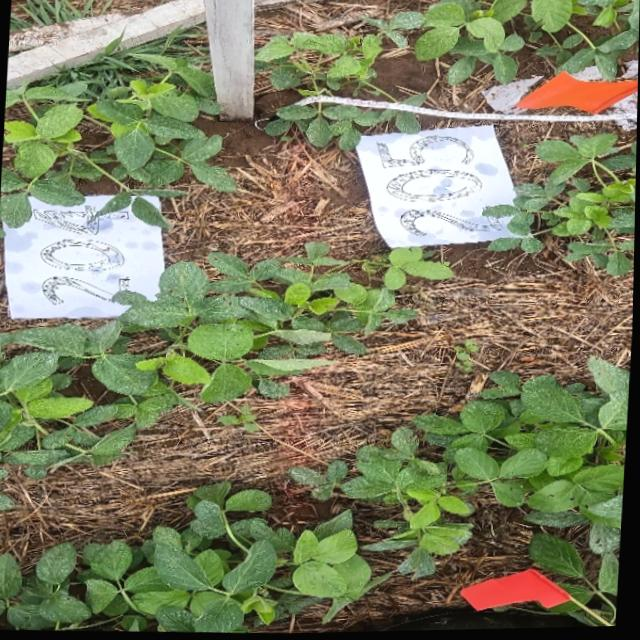caruru_weed: (219, 406, 262, 432), (457, 340, 481, 373)
grassy_weed: (39, 27, 214, 101), (9, 0, 93, 29)
soy_plant: (0, 243, 452, 478), (295, 361, 631, 629), (0, 482, 385, 634), (0, 55, 236, 227), (485, 136, 637, 277), (407, 0, 640, 83), (256, 35, 388, 97), (264, 104, 420, 150), (401, 548, 438, 580), (0, 493, 15, 509)
